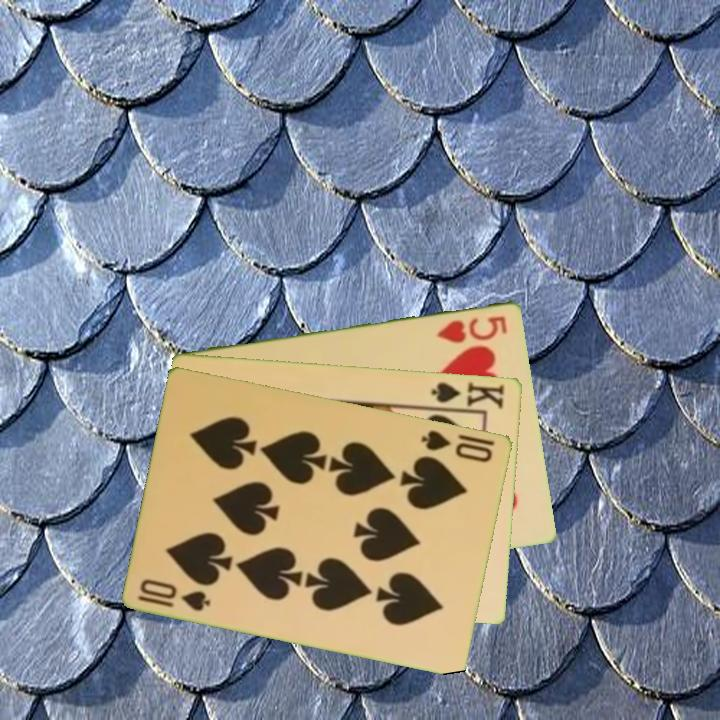10s: (134, 575, 214, 614), (418, 426, 496, 465)
5h: (434, 311, 511, 345)
Ks: (427, 378, 507, 413)
